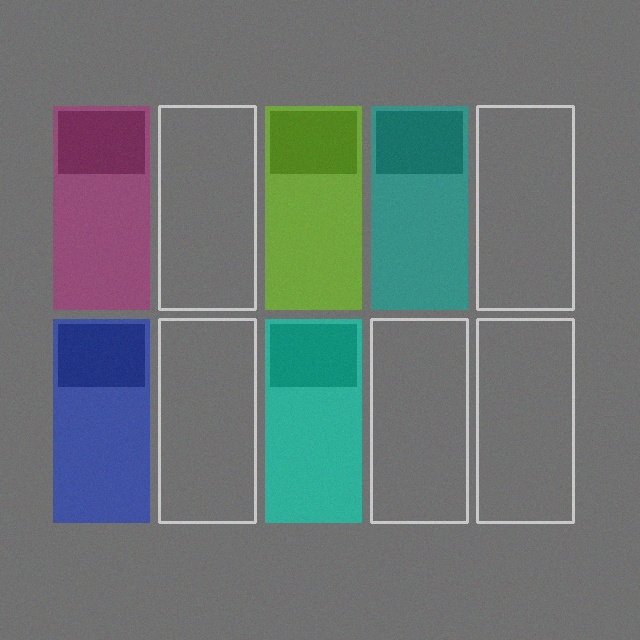space-empty: (159, 106, 255, 309), (477, 106, 573, 309), (159, 319, 255, 522), (371, 319, 467, 522), (477, 319, 573, 522)
space-occupied: (53, 106, 149, 309), (265, 106, 361, 309), (371, 106, 467, 309), (53, 319, 149, 522), (265, 319, 361, 522)
